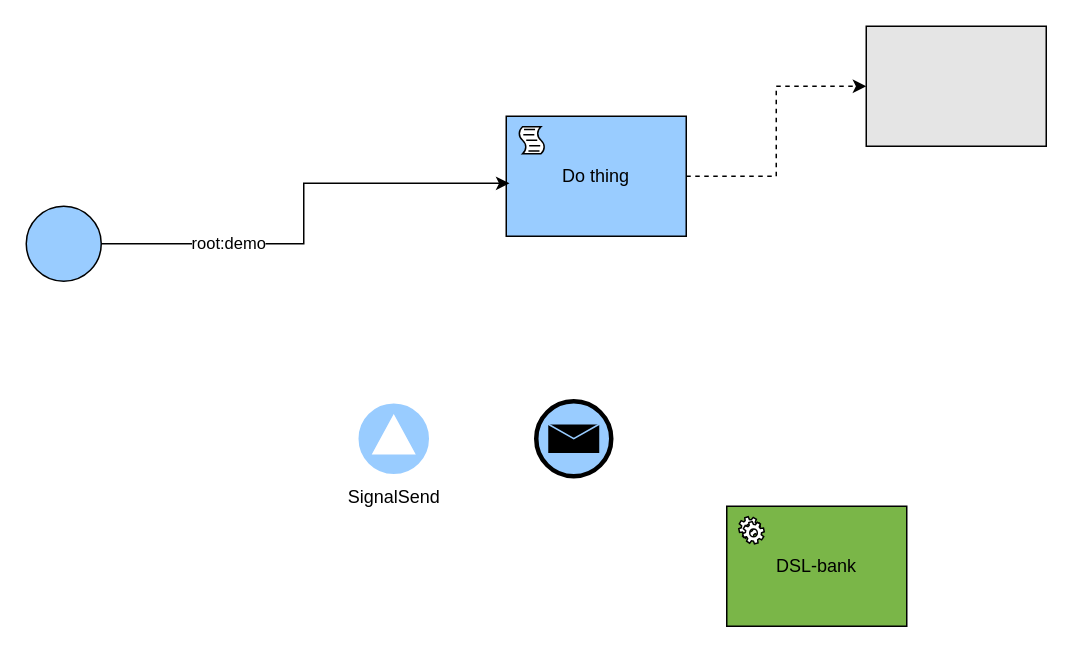
This 1073x653 diagram has some shape labels left out. The shapes that lost their labels are listed below. From the top down, each one's centre as x and y in pixels, then its label:
At pixel 955 85: "Note".
At pixel 573 438: "Message".
